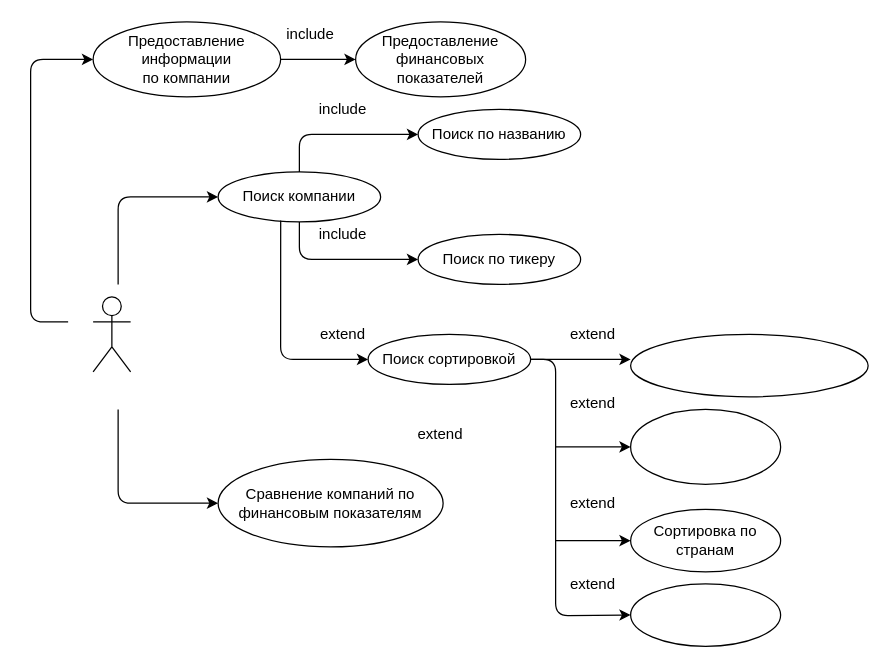
Some shapes in this 890 by 669 pixel diagram are drawn without their labels. Each missing label, with the box of its shape:
Комбинированая сортирвка из нескольких парпаметров: (629, 333, 868, 397)
Пользователь: (92, 296, 131, 372)
Сортировка по индустрии и секторам: (629, 408, 781, 484)
Сортировка с условиями: (629, 582, 781, 646)
